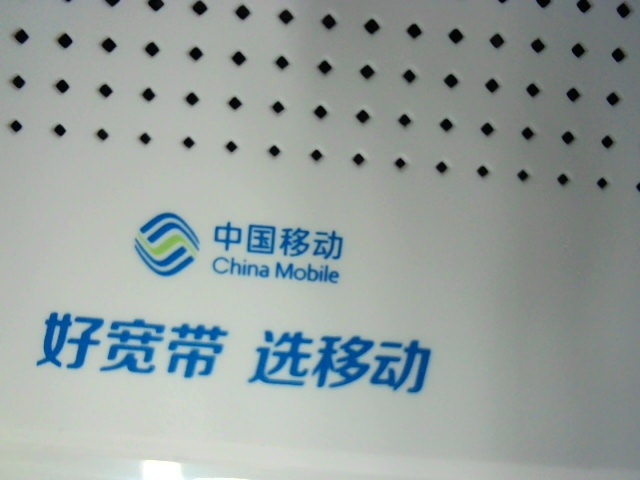AA_ChinaMobile: (32, 199, 435, 398)
